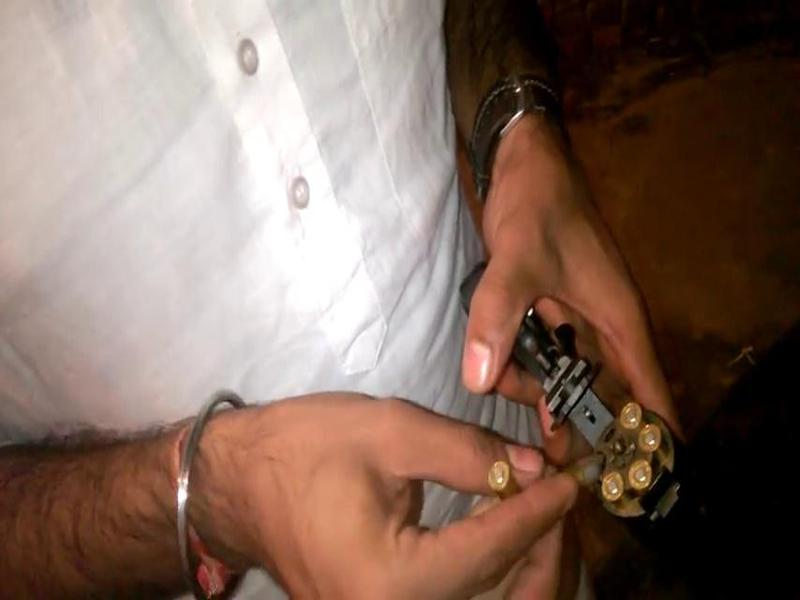Revolver: (460, 255, 751, 600)
